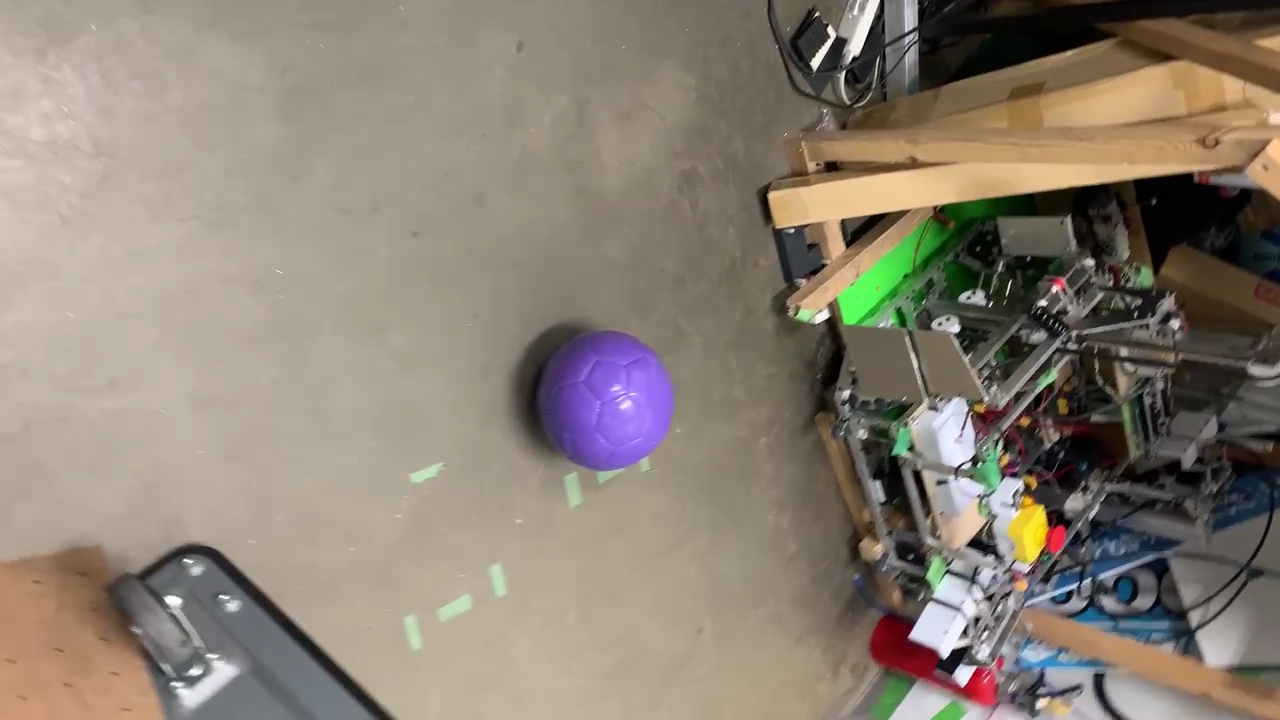purple: (537, 334, 673, 472)
